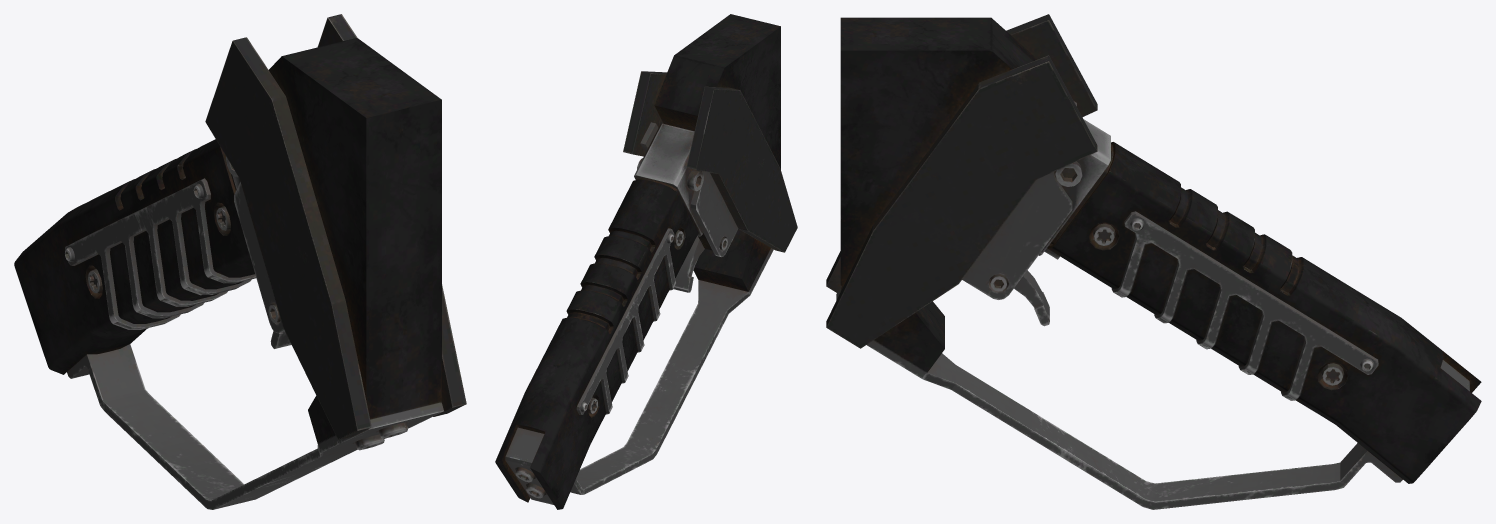
The model's file is Grip_2.glb.
The picture shows the model from 3 angles, left to right: view 1: azimuth 30°, elevation 25°; view 2: azimuth 150°, elevation 25°; view 3: azimuth 270°, elevation 25°; orthographic projection. The views are drawn at different scales.
Parts seen in each view (by area): view 1: Grip_2; view 2: Grip_2; view 3: Grip_2.
Boxes of the visible parts, bbox=[...] form: Grip_2: bbox=[14, 14, 466, 509]; Grip_2: bbox=[495, 14, 797, 509]; Grip_2: bbox=[826, 14, 1481, 509].
Size of the model in its own units: 0.0343 by 0.1572 by 0.2002.
1 material, 1 textured.
